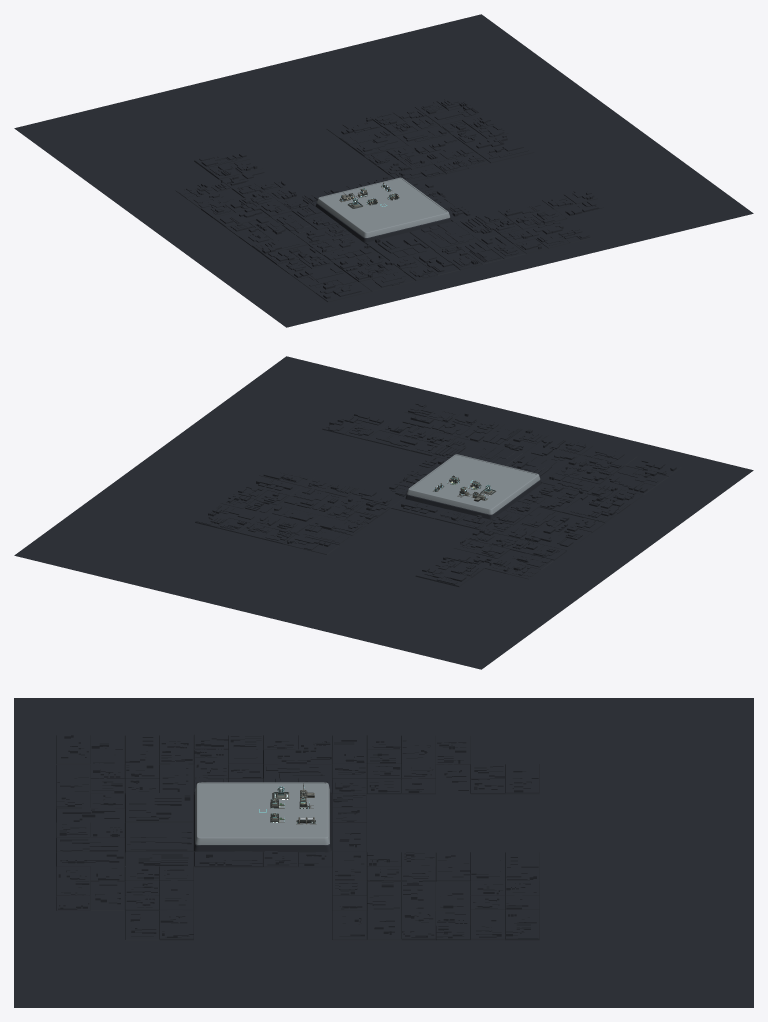
The picture shows the model from 3 angles, top to bottom: view 1: azimuth 30°, elevation 25°; view 2: azimuth 150°, elevation 25°; view 3: azimuth 270°, elevation 25°; orthographic projection. The views are drawn at different scales.
Parts seen in each view (by area): view 1: Plane003, Plane004, Plane001, BaseMesh, baseBase; view 2: Plane003, Plane004, Plane001, BaseMesh, baseBase; view 3: Plane004, Plane001, Plane003, BaseMesh, baseBase.
Boxes of the visible parts, box(x1,y1,x2,y2) form: Plane003: box(23, 14, 753, 325); Plane004: box(14, 16, 744, 327); Plane001: box(175, 96, 610, 302); BaseMesh: box(317, 177, 449, 237); baseBase: box(315, 203, 451, 243); Plane003: box(14, 356, 744, 667); Plane004: box(50, 359, 753, 669); Plane001: box(195, 403, 681, 587); BaseMesh: box(407, 454, 540, 514); baseBase: box(405, 479, 541, 519); Plane004: box(14, 698, 753, 1001); Plane001: box(56, 733, 539, 940); Plane003: box(14, 704, 753, 1007); BaseMesh: box(195, 782, 329, 844); baseBase: box(194, 790, 331, 852).
Bounding box in the file's own units: 24.66 × 0.872 × 24.89.
30 materials, 25 textured.
